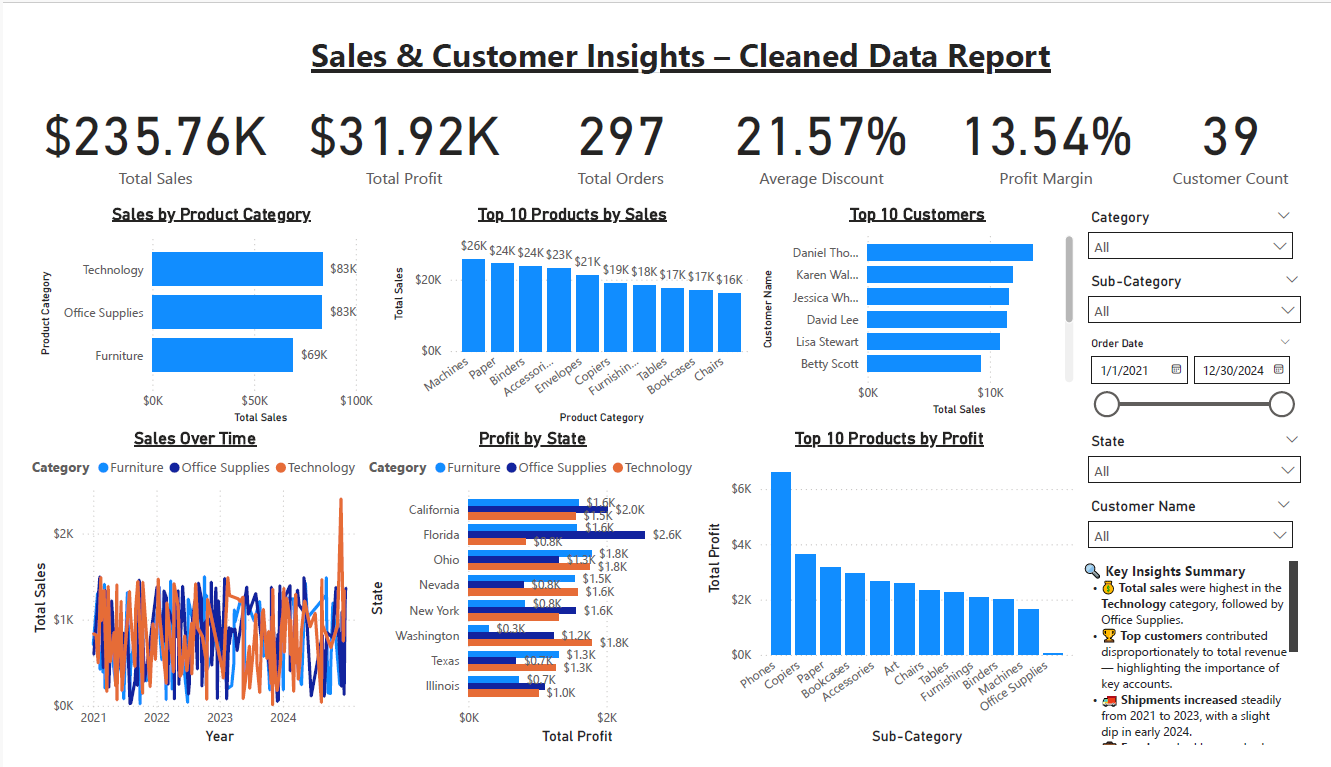

This screenshot's page, from the dashboard's own definition file:
{"tool":"powerbi","page":{"name":"Executive Summary","canvas":[1280,720],"ordinal":0},"visuals":[{"type":"card","fields":{"Values":["Synthetic_SampleSuperstore_DirtyData2.Total Sales"]},"box":[8,48,240,128],"z":0},{"type":"card","fields":{"Values":["Synthetic_SampleSuperstore_DirtyData2.Total Orders"]},"box":[504,48,176,128],"z":2},{"type":"card","fields":{"Values":["Synthetic_SampleSuperstore_DirtyData2.Average Discount"]},"box":[672,48,240,128],"z":3},{"type":"card","fields":{"Values":["Synthetic_SampleSuperstore_DirtyData2.Profit Margin"]},"box":[912,48,208,128],"z":4},{"type":"card","fields":{"Values":["Synthetic_SampleSuperstore_DirtyData2.Customer Count"]},"box":[1120,48,160,128],"z":5},{"type":"card","fields":{"Values":["Synthetic_SampleSuperstore_DirtyData2.Total Profit"]},"box":[248,48,256,128],"z":6},{"type":"textbox","box":[24,0,1256,56],"z":7},{"type":"clusteredBarChart","title":"Sales by Product Category","fields":{"Category":["Synthetic_SampleSuperstore_DirtyData2.Category"],"Y":["Synthetic_SampleSuperstore_DirtyData2.Total Sales"]},"box":[8,176,352,224],"z":8},{"type":"lineChart","title":"Sales Over Time","fields":{"Y":["Synthetic_SampleSuperstore_DirtyData2.Total Sales"],"Series":["Synthetic_SampleSuperstore_DirtyData2.Category"],"Category":["Synthetic_SampleSuperstore_DirtyData2.Order Date.Variation.Date Hierarchy.Year","Synthetic_SampleSuperstore_DirtyData2.Order Date.Variation.Date Hierarchy.Quarter","Synthetic_SampleSuperstore_DirtyData2.Order Date.Variation.Date Hierarchy.Month","Synthetic_SampleSuperstore_DirtyData2.Order Date.Variation.Date Hierarchy.Day"]},"box":[0,400,336,320],"z":9},{"type":"clusteredColumnChart","title":"Top 10 Products by Sales","fields":{"Category":["Synthetic_SampleSuperstore_DirtyData2.Product Name"],"Y":["Synthetic_SampleSuperstore_DirtyData2.Total Sales"]},"box":[360,176,368,224],"z":10},{"type":"clusteredBarChart","title":"Profit by State","fields":{"Category":["Synthetic_SampleSuperstore_DirtyData2.State"],"Series":["Synthetic_SampleSuperstore_DirtyData2.Category"],"Y":["Synthetic_SampleSuperstore_DirtyData2.Total Profit"]},"box":[336,400,336,320],"z":11},{"type":"slicer","fields":{"Values":["Synthetic_SampleSuperstore_DirtyData2.Category"]},"box":[1048,176,224,64],"z":12},{"type":"slicer","fields":{"Values":["Synthetic_SampleSuperstore_DirtyData2.Order Date"]},"box":[1048,304,224,96],"z":13},{"type":"slicer","fields":{"Values":["Synthetic_SampleSuperstore_DirtyData2.Sub-Category"]},"box":[1048,240,232,64],"z":14},{"type":"slicer","fields":{"Values":["Synthetic_SampleSuperstore_DirtyData2.Customer Name"]},"box":[1048,464,224,64],"z":15},{"type":"slicer","fields":{"Values":["Synthetic_SampleSuperstore_DirtyData2.State"]},"box":[1048,400,232,64],"z":16},{"type":"clusteredBarChart","title":"Top 10 Customers","fields":{"Category":["Synthetic_SampleSuperstore_DirtyData2.Customer Name"],"Y":["Synthetic_SampleSuperstore_DirtyData2.Total Sales"]},"box":[728,176,320,216],"z":17},{"type":"columnChart","title":"Top 10 Products by Profit","fields":{"Category":["Synthetic_SampleSuperstore_DirtyData2.Sub-Category"],"Y":["Synthetic_SampleSuperstore_DirtyData2.Total Profit"]},"box":[672,400,376,320],"z":18},{"type":"textbox","box":[1048,528,224,192],"z":19}]}

Visuals, with their boxes in screenshot pixels (x1, y1, x2, y2), scaled from the page's 1280x720 canvas onto the 1331x767 screenshot:
card - Synthetic_SampleSuperstore_DirtyData2.Total Sales: <box>8,51,258,187</box>
card - Synthetic_SampleSuperstore_DirtyData2.Total Orders: <box>524,51,707,187</box>
card - Synthetic_SampleSuperstore_DirtyData2.Average Discount: <box>699,51,948,187</box>
card - Synthetic_SampleSuperstore_DirtyData2.Profit Margin: <box>948,51,1165,187</box>
card - Synthetic_SampleSuperstore_DirtyData2.Customer Count: <box>1165,51,1330,187</box>
card - Synthetic_SampleSuperstore_DirtyData2.Total Profit: <box>258,51,524,187</box>
textbox: <box>25,0,1330,60</box>
"Sales by Product Category" clusteredBarChart: <box>8,187,374,426</box>
"Sales Over Time" lineChart: <box>0,426,349,766</box>
"Top 10 Products by Sales" clusteredColumnChart: <box>374,187,757,426</box>
"Profit by State" clusteredBarChart: <box>349,426,699,766</box>
slicer - Synthetic_SampleSuperstore_DirtyData2.Category: <box>1090,187,1323,256</box>
slicer - Synthetic_SampleSuperstore_DirtyData2.Order Date: <box>1090,324,1323,426</box>
slicer - Synthetic_SampleSuperstore_DirtyData2.Sub-Category: <box>1090,256,1330,324</box>
slicer - Synthetic_SampleSuperstore_DirtyData2.Customer Name: <box>1090,494,1323,562</box>
slicer - Synthetic_SampleSuperstore_DirtyData2.State: <box>1090,426,1330,494</box>
"Top 10 Customers" clusteredBarChart: <box>757,187,1090,418</box>
"Top 10 Products by Profit" columnChart: <box>699,426,1090,766</box>
textbox: <box>1090,562,1323,766</box>
